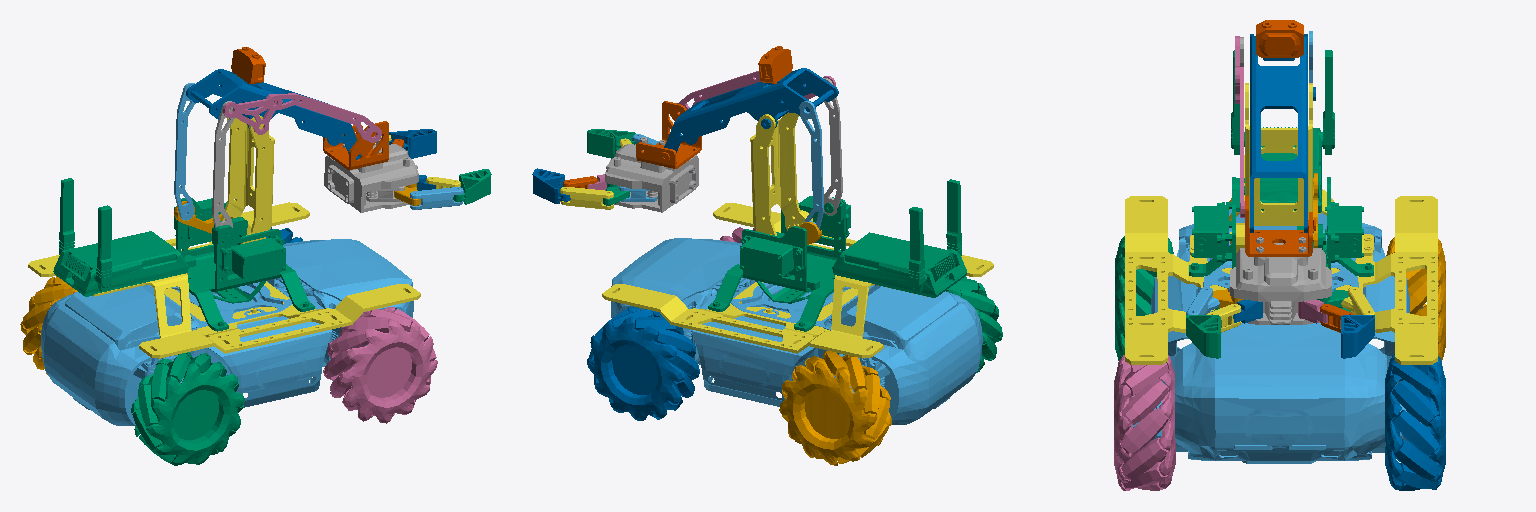
--- Render facts (derived) ---
3 views of the same robot in one strip: view 1: azimuth 30°, elevation 25°; view 2: azimuth 150°, elevation 25°; view 3: azimuth 270°, elevation 25° (orthographic).
Robot: RoboMaster — 36 links, 35 joints (3 revolute, 25 continuous, 1 prismatic, 6 fixed); root link base_link; default pose: every joint at zero.
Links seen in each view (by area): view 1: robot_base, front_right_wheel_link_respondable, rear_right_wheel_link_respondable, extension_base_link_respondable, arm_base_link_respondable, intelligent_controller_link_respondable, arm_1_link_respondable, arm_2_link_respondable, gripper_link_respondable, rear_left_wheel_link_respondable, endpoint_bracket_link_respondable, rod_3_link_respondable (+7 smaller); view 2: robot_base, rear_left_wheel_link_respondable, extension_base_link_respondable, front_left_wheel_link_respondable, arm_base_link_respondable, intelligent_controller_link_respondable, arm_2_link_respondable, arm_1_link_respondable, gripper_link_respondable, rear_right_wheel_link_respondable, endpoint_bracket_link_respondable, rod_3_link_respondable (+6 smaller); view 3: robot_base, extension_base_link_respondable, front_right_wheel_link_respondable, front_left_wheel_link_respondable, arm_base_link_respondable, gripper_link_respondable, arm_2_link_respondable, arm_1_link_respondable, intelligent_controller_link_respondable, rear_right_wheel_link_respondable, endpoint_bracket_link_respondable, rear_left_wheel_link_respondable (+8 smaller).
Boxes of the visible links, x1,y1,x2,y2 form: robot_base: (41, 239, 413, 425); front_right_wheel_link_respondable: (323, 307, 437, 423); rear_right_wheel_link_respondable: (131, 352, 244, 465); extension_base_link_respondable: (28, 202, 420, 358); arm_base_link_respondable: (174, 197, 314, 331); intelligent_controller_link_respondable: (53, 178, 188, 296); arm_1_link_respondable: (221, 115, 274, 243); arm_2_link_respondable: (186, 69, 360, 159); gripper_link_respondable: (324, 137, 418, 212); rear_left_wheel_link_respondable: (20, 276, 77, 374); endpoint_bracket_link_respondable: (323, 121, 388, 169); rod_3_link_respondable: (174, 83, 195, 220); robot_base: (611, 238, 982, 424); rear_left_wheel_link_respondable: (779, 351, 891, 465); extension_base_link_respondable: (602, 203, 993, 358); front_left_wheel_link_respondable: (587, 307, 699, 420); arm_base_link_respondable: (708, 196, 850, 331); intelligent_controller_link_respondable: (832, 179, 966, 297); arm_2_link_respondable: (664, 68, 838, 152); arm_1_link_respondable: (750, 112, 812, 235); gripper_link_respondable: (605, 137, 698, 212); rear_right_wheel_link_respondable: (946, 276, 1002, 372); endpoint_bracket_link_respondable: (636, 101, 701, 168); rod_3_link_respondable: (799, 101, 823, 229); robot_base: (1133, 209, 1422, 463); extension_base_link_respondable: (1125, 155, 1437, 364); front_right_wheel_link_respondable: (1114, 355, 1175, 490); front_left_wheel_link_respondable: (1385, 354, 1445, 490); arm_base_link_respondable: (1189, 177, 1373, 312); gripper_link_respondable: (1230, 237, 1331, 324); arm_2_link_respondable: (1250, 34, 1315, 232); arm_1_link_respondable: (1230, 83, 1312, 252); intelligent_controller_link_respondable: (1231, 50, 1334, 212); rear_right_wheel_link_respondable: (1115, 236, 1173, 360); endpoint_bracket_link_respondable: (1245, 196, 1315, 256); rear_left_wheel_link_respondable: (1386, 237, 1445, 360).
Size in the robot's own frame: 0.4104 by 0.2456 by 0.3445 metres.
Meshes: 65 distinct files referenced, 65 mesh visuals loaded (65 OBJ).

The robot description file, URDF, robot "RoboMaster":
<?xml version="1.0"?>
<robot name="RoboMaster">
    <mujoco>
        <compiler meshdir="/CoppeliaSim_Edu_V4_10_0_rev0_Ubuntu22_04/myRM/meshes_obj" balanceinertia="true" />
    </mujoco>
    <link name="base_link" />
    <joint name="base_link_to_robot_base" type="fixed">
        <parent link="base_link" />
        <child link="robot_base" />
        <origin xyz="0 0 0" rpy="0 0 0" />
    </joint>
    <link name="robot_base">
        <inertial>
            <origin rpy="-0.000000 -1.570796 0.000000" xyz="-0.005513 -0.000321 0.066029" />
            <inertia ixx="0.017589308201487" izz="0.01451068068707" iyz="-3.7897668285013e-06" iyy="0.0051199987327979" ixz="-4.6110514572507e-05" ixy="-7.7439198790158e-07" />
            <mass value="1.9340000152588" />
        </inertial>
        <collision name="RoboMaster">
            <origin xyz="0.000000 0.000000 0.067444" rpy="0.000000 -1.570796 0.000000" />
            <geometry>
                <mesh filename="mrRM_robot_base_coll_1.obj" />
            </geometry>
        </collision>
        <visual name="base_link_visual">
            <origin xyz="0.002326 -0.002002 0.053802" rpy="-0.007984 4.678589 -3.133558" />
            <geometry>
                <mesh filename="mrRM_base_link_visual_vis_1.obj" />
            </geometry>
        </visual>
        <visual name="base_link_visual">
            <origin xyz="0.002326 -0.002002 0.053802" rpy="-0.007984 4.678589 -3.133558" />
            <geometry>
                <mesh filename="mrRM_base_link_visual_vis_2.obj" />
            </geometry>
        </visual>
        <visual name="base_link_visual">
            <origin xyz="0.002326 -0.002002 0.053802" rpy="-0.007984 4.678589 -3.133558" />
            <geometry>
                <mesh filename="mrRM_base_link_visual_vis_3.obj" />
            </geometry>
        </visual>
        <visual name="base_link_visual">
            <origin xyz="0.002326 -0.002002 0.053802" rpy="-0.007984 4.678589 -3.133558" />
            <geometry>
                <mesh filename="mrRM_base_link_visual_vis_4.obj" />
            </geometry>
        </visual>
        <visual name="base_link_visual">
            <origin xyz="0.002326 -0.002002 0.053802" rpy="-0.007984 4.678589 -3.133558" />
            <geometry>
                <mesh filename="mrRM_base_link_visual_vis_5.obj" />
            </geometry>
        </visual>
        <visual name="base_link_visual">
            <origin xyz="0.002326 -0.002002 0.053802" rpy="-0.007984 4.678589 -3.133558" />
            <geometry>
                <mesh filename="mrRM_base_link_visual_vis_6.obj" />
            </geometry>
        </visual>
        <visual name="base_link_visual">
            <origin xyz="0.002326 -0.002002 0.053802" rpy="-0.007984 4.678589 -3.133558" />
            <geometry>
                <mesh filename="mrRM_base_link_visual_vis_7.obj" />
            </geometry>
        </visual>
        <visual name="base_link_visual">
            <origin xyz="0.002326 -0.002002 0.053802" rpy="-0.007984 4.678589 -3.133558" />
            <geometry>
                <mesh filename="mrRM_base_link_visual_vis_8.obj" />
            </geometry>
        </visual>
        <visual name="base_link_visual">
            <origin xyz="0.002326 -0.002002 0.053802" rpy="-0.007984 4.678589 -3.133558" />
            <geometry>
                <mesh filename="mrRM_base_link_visual_vis_9.obj" />
            </geometry>
        </visual>
        <visual name="base_link_visual">
            <origin xyz="0.002326 -0.002002 0.053802" rpy="-0.007984 4.678589 -3.133558" />
            <geometry>
                <mesh filename="mrRM_base_link_visual_vis_10.obj" />
            </geometry>
        </visual>
        <visual name="base_link_visual">
            <origin xyz="0.002326 -0.002002 0.053802" rpy="-0.007984 4.678589 -3.133558" />
            <geometry>
                <mesh filename="mrRM_base_link_visual_vis_11.obj" />
            </geometry>
        </visual>
        <visual name="base_link_visual">
            <origin xyz="0.002326 -0.002002 0.053802" rpy="-0.007984 4.678589 -3.133558" />
            <geometry>
                <mesh filename="mrRM_base_link_visual_vis_12.obj" />
            </geometry>
        </visual>
        <visual name="base_link_visual">
            <origin xyz="0.002326 -0.002002 0.053802" rpy="-0.007984 4.678589 -3.133558" />
            <geometry>
                <mesh filename="mrRM_base_link_visual_vis_13.obj" />
            </geometry>
        </visual>
        <visual name="front_hit_sensor_link_visual">
            <origin xyz="0.154883 -0.000509 0.077526" rpy="-1.570858 3.156556 0.000403" />
            <geometry>
                <mesh filename="mrRM_front_hit_sensor_link_visual_vis_1.obj" />
            </geometry>
        </visual>
        <visual name="front_led_link_visual">
            <origin xyz="0.166341 -0.001666 0.077340" rpy="-1.570776 3.151230 3.140798" />
            <geometry>
                <mesh filename="mrRM_front_led_link_visual_vis_1.obj" />
            </geometry>
        </visual>
        <visual name="left_hit_sensor_link_visual">
            <origin xyz="-0.002040 0.085820 0.066425" rpy="1.555835 3.141586 1.571201" />
            <geometry>
                <mesh filename="mrRM_left_hit_sensor_link_visual_vis_1.obj" />
            </geometry>
        </visual>
        <visual name="left_led_link_visual">
            <origin xyz="-0.003518 0.096630 0.066595" rpy="1.558170 3.174514 1.571616" />
            <geometry>
                <mesh filename="mrRM_left_led_link_visual_vis_1.obj" />
            </geometry>
        </visual>
        <visual name="rear_hit_sensor_link_visual">
            <origin xyz="-0.155119 -0.002990 0.069243" rpy="1.570860 3.126629 -3.141188" />
            <geometry>
                <mesh filename="mrRM_rear_hit_sensor_link_visual_vis_1.obj" />
            </geometry>
        </visual>
        <visual name="rear_led_link_visual">
            <origin xyz="-0.165956 -0.000894 0.069047" rpy="-1.570639 3.191801 -0.000609" />
            <geometry>
                <mesh filename="mrRM_rear_led_link_visual_vis_1.obj" />
            </geometry>
        </visual>
        <visual name="right_hit_sensor_link_visual">
            <origin xyz="-0.001971 -0.084315 0.066414" rpy="1.555835 3.141586 1.571201" />
            <geometry>
                <mesh filename="mrRM_right_hit_sensor_link_visual_vis_1.obj" />
            </geometry>
        </visual>
        <visual name="right_led_link_visual">
            <origin xyz="-0.001984 -0.097961 0.066579" rpy="-1.586849 3.142395 1.571214" />
            <geometry>
                <mesh filename="mrRM_right_led_link_visual_vis_1.obj" />
            </geometry>
        </visual>
        <visual name="GyroSensor">
            <origin xyz="0.000000 0.000000 0.067444" rpy="-3.141593 3.141593 -3.141593" />
            <geometry>
                <mesh filename="mrRM_GyroSensor_vis_1.obj" />
            </geometry>
        </visual>
        <visual name="Accelerometer">
            <origin xyz="0.000000 0.000000 0.067444" rpy="-3.141593 3.141593 -3.141593" />
            <geometry>
                <mesh filename="mrRM_Accelerometer_vis_1.obj" />
            </geometry>
        </visual>
        <visual name="reference">
            <origin xyz="0.000000 0.000000 0.067444" rpy="-3.141593 3.141593 -3.141593" />
            <geometry>
                <box size="0.010000 0.010000 0.010000" />
            </geometry>
        </visual>
        <visual name="BaseLinkFrame">
            <origin xyz="0.000000 0.000000 -0.000000" rpy="-3.141593 3.141593 -3.141593" />
            <geometry>
                <box size="0.010000 0.010000 0.010000" />
            </geometry>
        </visual>
    </link>
    <joint name="arm_base_attachment_joint" type="fixed">
        <axis xyz="0 0 1" />
        <parent link="robot_base" />
        <child link="arm_base_link_respondable" />
        <origin xyz="0.001280 0.000830 0.127151" rpy="-0.004234 1.585757 -0.003830" />
    </joint>
    <link name="arm_base_link_respondable">
        <inertial>
            <origin rpy="1.570799 3.141592 -0.010468" xyz="0.000000 0.000000 -0.000000" />
            <inertia ixx="0.00072019468651553" izz="0.0024997998783834" iyz="5.7190505382992e-10" iyy="0.0022999993508077" ixz="-1.8631618966786e-05" ixy="-2.9647946187585e-11" />
            <mass value="0.30000001192093" />
        </inertial>
        <collision name="arm_base_link_respondable">
            <origin xyz="-0.010620 -0.000534 -0.002359" rpy="1.570799 3.141592 -0.010468" />
            <geometry>
                <mesh filename="mrRM_arm_base_link_respondable_coll_1.obj" />
            </geometry>
        </collision>
        <visual name="arm_base_link_visual">
            <origin xyz="-0.031605 0.046821 -0.001128" rpy="0.000000 3.141592 0.000000" />
            <geometry>
                <mesh filename="mrRM_arm_base_link_visual_vis_1.obj" />
            </geometry>
        </visual>
        <visual name="arm_base_link_visual">
            <origin xyz="-0.031605 0.046821 -0.001128" rpy="0.000000 3.141592 0.000000" />
            <geometry>
                <mesh filename="mrRM_arm_base_link_visual_vis_2.obj" />
            </geometry>
        </visual>
        <visual name="arm_base_link_visual">
            <origin xyz="-0.031605 0.046821 -0.001128" rpy="0.000000 3.141592 0.000000" />
            <geometry>
                <mesh filename="mrRM_arm_base_link_visual_vis_3.obj" />
            </geometry>
        </visual>
        <visual name="arm_base_link_visual">
            <origin xyz="-0.031605 0.046821 -0.001128" rpy="0.000000 3.141592 0.000000" />
            <geometry>
                <mesh filename="mrRM_arm_base_link_visual_vis_4.obj" />
            </geometry>
        </visual>
    </link>
    <joint name="servo_motor_1" type="revolute">
        <axis xyz="0 0 1" />
        <limit velocity="5.1312680008637" lower="-0.27401667833328" effort="10.0" upper="1.3840461373329" />
        <parent link="arm_base_link_respondable" />
        <child link="arm_1_link_respondable" />
        <origin xyz="-0.030741 -0.025571 0.010396" rpy="-1.570797 -1.570796 0.000000" />
    </joint>
    <link name="arm_1_link_respondable">
        <inertial>
            <origin rpy="1.570958 3.142942 0.060996" xyz="-0.000559 -0.001173 0.023592" />
            <inertia ixx="0.015559326757555" izz="0.0018599644109959" iyz="0.0022918940812945" iyy="0.016156487726318" ixz="-0.00084468883193591" ixy="0.00016358625834718" />
            <mass value="0.056000001728535" />
        </inertial>
        <collision name="arm_1_link_respondable">
            <origin xyz="0.006169 -0.058604 0.023587" rpy="1.570958 3.142942 0.060996" />
            <geometry>
                <mesh filename="mrRM_arm_1_link_respondable_coll_1.obj" />
            </geometry>
        </collision>
        <visual name="arm_1_link_visual">
            <origin xyz="0.006193 -0.058505 0.023577" rpy="-1.571053 3.144842 0.056227" />
            <geometry>
                <mesh filename="mrRM_arm_1_link_visual_vis_1.obj" />
            </geometry>
        </visual>
        <visual name="arm_1_link_visual">
            <origin xyz="0.006193 -0.058505 0.023577" rpy="-1.571053 3.144842 0.056227" />
            <geometry>
                <mesh filename="mrRM_arm_1_link_visual_vis_2.obj" />
            </geometry>
        </visual>
    </link>
    <joint name="arm_2_link" type="continuous">
        <axis xyz="0 0 1" />
        <parent link="arm_1_link_respondable" />
        <child link="arm_2_link_respondable" />
        <origin xyz="0.001870 -0.121024 0.043866" rpy="-3.141593 3.141593 3.141593" />
    </joint>
    <link name="arm_2_link_respondable">
        <inertial>
            <origin rpy="1.571916 3.141590 2.055180" xyz="0.037006 0.006990 -0.020273" />
            <inertia ixx="0.011862393352485" izz="0.011470737200884" iyz="0.0" iyy="0.0028439997991025" ixz="0.0" ixy="0.0" />
            <mass value="0.079999998211861" />
        </inertial>
        <collision name="arm_2_link_respondable">
            <origin xyz="0.037006 0.006990 -0.020273" rpy="1.571916 3.141590 2.055180" />
            <geometry>
                <mesh filename="mrRM_arm_2_link_respondable_coll_1.obj" />
            </geometry>
        </collision>
        <visual name="arm_2_link_visual">
            <origin xyz="-0.042409 -0.022317 -0.018784" rpy="0.000087 3.141340 1.789281" />
            <geometry>
                <mesh filename="mrRM_arm_2_link_visual_vis_1.obj" />
            </geometry>
        </visual>
        <visual name="arm_2_link_visual">
            <origin xyz="-0.042409 -0.022317 -0.018784" rpy="0.000087 3.141340 1.789281" />
            <geometry>
                <mesh filename="mrRM_arm_2_link_visual_vis_2.obj" />
            </geometry>
        </visual>
        <visual name="arm_2_link_visual">
            <origin xyz="-0.042409 -0.022317 -0.018784" rpy="0.000087 3.141340 1.789281" />
            <geometry>
                <mesh filename="mrRM_arm_2_link_visual_vis_3.obj" />
            </geometry>
        </visual>
    </link>
    <joint name="endpoint_bracket_link" type="continuous">
        <axis xyz="0 0 1" />
        <parent link="arm_2_link_respondable" />
        <child link="endpoint_bracket_link_respondable" />
        <origin xyz="0.105856 0.056109 0.006752" rpy="3.141593 3.141593 -3.141593" />
    </joint>
    <link name="endpoint_bracket_link_respondable">
        <inertial>
            <origin rpy="3.141592 3.141493 -3.141144" xyz="0.010954 -0.003580 -0.026963" />
            <inertia ixx="0.00040727315982636" izz="0.00087104518419963" iyz="1.0337051069284e-13" iyy="0.00081677997398229" ixz="6.4361297454528e-21" ixy="1.2260267969261e-29" />
            <mass value="0.028000000864267" />
        </inertial>
        <collision name="endpoint_bracket_link_respondable">
            <origin xyz="0.010956 -0.008580 -0.026963" rpy="3.141592 3.141493 -3.141144" />
            <geometry>
                <mesh filename="mrRM_endpoint_bracket_link_respondable_coll_1.obj" />
            </geometry>
        </collision>
        <visual name="endpoint_bracket_link_visual">
            <origin xyz="0.011018 -0.008561 -0.025835" rpy="3.141592 3.141494 -3.141146" />
            <geometry>
                <mesh filename="mrRM_endpoint_bracket_link_visual_vis_1.obj" />
            </geometry>
        </visual>
    </link>
    <joint name="rod_1_link" type="continuous">
        <axis xyz="0 0 1" />
        <parent link="endpoint_bracket_link_respondable" />
        <child link="rod_1_link_respondable" />
        <origin xyz="0.013458 -0.021307 -0.054097" rpy="-3.141593 3.141593 3.120300" />
    </joint>
    <link name="rod_1_link_respondable">
        <inertial>
            <origin rpy="-1.118678 4.712385 -1.517352" xyz="-0.050842 -0.031213 0.000000" />
            <inertia ixx="0.0016030948301425" izz="0.0015681275861672" iyz="0.0" iyy="3.6269925849996e-05" ixz="0.0" ixy="0.0" />
            <mass value="0.012000000104308" />
        </inertial>
        <collision name="rod_1_link_respondable">
            <origin xyz="-0.050842 -0.031213 0.000000" rpy="-1.118678 4.712385 -1.517352" />
            <geometry>
                <mesh filename="mrRM_rod_1_link_respondable_coll_1.obj" />
            </geometry>
        </collision>
        <visual name="rod_1_link_visual">
            <origin xyz="-0.050750 -0.031179 -0.000002" rpy="0.488407 4.712387 -3.123125" />
            <geometry>
                <mesh filename="mrRM_rod_1_link_visual_vis_1.obj" />
            </geometry>
        </visual>
    </link>
    <joint name="Force_sensor" type="fixed">
        <axis xyz="0 0 1" />
        <parent link="endpoint_bracket_link_respondable" />
        <child link="gripper_link_respondable" />
        <origin xyz="0.011017 0.008439 -0.025846" rpy="-1.570745 3.141593 3.141592" />
    </joint>
    <link name="gripper_link_respondable">
        <inertial>
            <origin rpy="-1.570796 3.141542 -1.570796" xyz="0.016000 -0.000001 -0.028000" />
            <inertia ixx="2.0700001281872e-05" izz="3.7500003271271e-05" iyz="0.0" iyy="3.8699999359623e-05" ixz="0.0" ixy="0.0" />
            <mass value="0.15000000596046" />
        </inertial>
        <collision name="gripper_link_respondable">
            <origin xyz="0.021000 -0.000000 -0.003000" rpy="-1.570796 3.141542 -1.570796" />
            <geometry>
                <mesh filename="mrRM_gripper_link_respondable_coll_1.obj" />
            </geometry>
        </collision>
        <visual name="gripper_link_visual">
            <origin xyz="0.022420 0.000097 -0.020564" rpy="2.997433 4.712040 -2.997433" />
            <geometry>
                <mesh filename="mrRM_gripper_link_visual_vis_1.obj" />
            </geometry>
        </visual>
    </link>
    <joint name="Prismatic_joint" type="prismatic">
        <axis xyz="0 0 1" />
        <limit velocity="10.0" lower="-0.023000000044703" effort="1000.0" upper="0.0010000001639128" />
        <parent link="gripper_link_respondable" />
        <child link="Cuboid0" />
        <origin xyz="0.046128 -0.000017 -0.043220" rpy="1.570796 4.712339 -1.570796" />
    </joint>
    <link name="Cuboid0">
        <inertial>
            <origin rpy="-0.000000 1.570796 0.000000" xyz="0.050000 -0.000000 0.038006" />
            <inertia ixx="1.499999851454e-07" izz="1.499999851454e-07" iyz="0.0" iyy="4.9999993229479e-08" ixz="0.0" ixy="0.0" />
            <mass value="0.0029999995604157" />
        </inertial>
        <collision name="Cuboid0">
            <origin xyz="0.050000 -0.000000 0.038006" rpy="-0.000000 1.570796 0.000000" />
            <geometry>
                <box size="0.010000 0.030000 0.010000" />
            </geometry>
        </collision>
    </link>
    <joint name="left_gripper_1" type="continuous">
        <axis xyz="0 0 1" />
        <parent link="Cuboid0" />
        <child link="left_gripper_1_visual" />
        <origin xyz="0.011580 0.021316 0.040763" rpy="-0.000000 1.570796 0.000000" />
    </joint>
    <link name="left_gripper_1_visual">
        <inertial>
            <origin xyz="0 0 0" rpy="0 0 0" />
            <mass value="0.0001" />
            <inertia ixx="1e-06" iyy="1e-06" izz="1e-06" ixy="0" ixz="0" iyz="0" />
        </inertial>
        <visual name="left_gripper_1_visual">
            <origin xyz="0.010995 0.006202 -0.000007" rpy="-1.570868 3.159129 -1.032086" />
            <geometry>
                <mesh filename="mrRM_left_gripper_1_visual_vis_1.obj" />
            </geometry>
        </visual>
    </link>
    <joint name="left_gripper_2" type="continuous">
        <axis xyz="0 0 1" />
        <parent link="left_gripper_1_visual" />
        <child link="left_gripper_2_respondable" />
        <origin xyz="0.021349 0.013036 -0.000000" rpy="3.141593 3.141593 3.141593" />
    </joint>
    <link name="left_gripper_2_respondable">
        <collision name="left_gripper_2_respondable">
            <origin xyz="0.008922 0.009093 0.000093" rpy="-1.727626 -1.570796 0.000000" />
            <geometry>
                <mesh filename="mrRM_left_gripper_2_respondable_coll_1.obj" />
            </geometry>
        </collision>
        <visual name="left_gripper_2_visual">
            <origin xyz="0.003857 0.006381 0.000278" rpy="-1.187774 -1.570796 0.000000" />
            <geometry>
                <mesh filename="mrRM_left_gripper_2_visual_vis_1.obj" />
            </geometry>
        </visual>
    </link>
    <joint name="left_gripper_4" type="continuous">
        <axis xyz="0 0 1" />
        <parent link="left_gripper_2_respondable" />
        <child link="left_gripper_4_respondable" />
        <origin xyz="0.004850 0.020415 -0.000006" rpy="3.141593 3.141593 -3.141593" />
    </joint>
    <link name="left_gripper_4_respondable">
        <collision name="left_gripper_4_respondable">
            <origin xyz="0.020378 0.001798 0.000098" rpy="-2.889531 -1.570796 0.000000" />
            <geometry>
                <mesh filename="mrRM_left_gripper_4_respondable_coll_1.obj" />
            </geometry>
        </collision>
        <visual name="left_gripper_4_visual">
            <origin xyz="0.020094 0.002762 -0.000001" rpy="0.320190 -1.570796 0.000000" />
            <geometry>
                <mesh filename="mrRM_left_gripper_4_visual_vis_1.obj" />
            </geometry>
        </visual>
    </link>
    <joint name="left_gripper_5" type="continuous">
        <axis xyz="0 0 1" />
        <parent link="left_gripper_4_respondable" />
        <child link="left_gripper_5_respondable" />
        <origin xyz="0.038592 0.010314 0.000002" rpy="3.141593 3.141593 3.141593" />
    </joint>
    <link name="left_gripper_5_respondable">
        <collision name="left_gripper_5_respondable">
            <origin xyz="0.017990 -0.008090 -0.000939" rpy="-1.674553 4.617997 -1.462757" />
            <geometry>
                <mesh filename="mrRM_left_gripper_5_respondable_coll_1.obj" />
            </geometry>
        </collision>
        <visual name="left_gripper_5_visual">
            <origin xyz="0.017573 -0.011847 0.000239" rpy="-0.006831 4.688097 2.731857" />
            <geometry>
                <mesh filename="mrRM_left_gripper_5_visual_vis_1.obj" />
            </geometry>
        </visual>
    </link>
    <joint name="left_gripper_6" type="continuous">
        <axis xyz="0 0 1" />
        <parent link="left_gripper_5_respondable" />
        <child link="left_gripper_6_respondable" />
        <origin xyz="0.005114 -0.014085 0.000000" rpy="-3.141593 3.141593 3.141593" />
    </joint>
    <link name="left_gripper_6_respondable">
        <collision name="left_gripper_6_respondable">
            <origin xyz="-0.007535 -0.008443 -0.000055" rpy="1.570594 3.141595 -0.719247" />
            <geometry>
                <mesh filename="mrRM_left_gripper_6_respondable_coll_1.obj" />
            </geometry>
        </collision>
        <visual name="left_gripper_6_visual">
            <origin xyz="-0.007374 -0.008477 0.000002" rpy="-1.570789 3.154903 -0.722334" />
            <geometry>
                <mesh filename="mrRM_left_gripper_6_visual_vis_1.obj" />
            </geometry>
        </visual>
    </link>
    <joint name="left_gripper_7" type="continuous">
        <axis xyz="0 0 1" />
        <parent link="left_gripper_6_respondable" />
        <child link="left_gripper_7_respondable" />
        <origin xyz="-0.014882 -0.016851 0.000000" rpy="3.141593 3.141593 3.141593" />
    </joint>
    <link name="left_gripper_7_respondable">
        <collision name="left_gripper_7_respondable">
            <origin xyz="-0.008705 -0.009626 -0.000056" rpy="1.570815 3.141601 -0.725416" />
            <geometry>
                <mesh filename="mrRM_left_gripper_7_respondable_coll_1.obj" />
            </geometry>
        </collision>
        <visual name="left_gripper_7_visual">
            <origin xyz="-0.007057 -0.007665 -0.000012" rpy="-1.572790 3.148865 -0.724774" />
            <geometry>
                <mesh filename="mrRM_left_gripper_7_visual_vis_1.obj" />
            </geometry>
        </visual>
    </link>
    <joint name="right_gripper_1" type="continuous">
        <axis xyz="0 0 1" />
        <parent link="Cuboid0" />
        <child link="right_gripper_1_visual" />
        <origin xyz="0.011580 -0.020865 0.040763" rpy="-0.000000 1.570796 0.000000" />
    </joint>
    <link name="right_gripper_1_visual">
        <inertial>
            <origin xyz="0 0 0" rpy="0 0 0" />
            <mass value="0.0001" />
            <inertia ixx="1e-06" iyy="1e-06" izz="1e-06" ixy="0" ixz="0" iyz="0" />
        </inertial>
        <visual name="right_gripper_1_visual">
            <origin xyz="0.010940 -0.006261 0.000030" rpy="-1.567358 3.230098 -2.105213" />
            <geometry>
                <mesh filename="mrRM_right_gripper_1_visual_vis_1.obj" />
            </geometry>
        </visual>
    </link>
    <joint name="right_gripper_2" type="continuous">
        <axis xyz="0 0 1" />
        <parent link="right_gripper_1_visual" />
        <child link="right_gripper_2_respondable" />
        <origin xyz="0.021349 -0.013036 0.000000" rpy="3.141593 3.141593 -3.141593" />
    </joint>
    <link name="right_gripper_2_respondable">
        <collision name="right_gripper_2_respondable">
            <origin xyz="0.008719 -0.009971 0.000092" rpy="-1.413967 -1.570796 0.000000" />
            <geometry>
                <mesh filename="mrRM_right_gripper_2_respondable_coll_1.obj" />
            </geometry>
        </collision>
        <visual name="right_gripper_2_visual">
            <origin xyz="0.003722 -0.006814 0.000278" rpy="-1.953820 -1.570796 0.000000" />
            <geometry>
                <mesh filename="mrRM_right_gripper_2_visual_vis_1.obj" />
            </geometry>
        </visual>
    </link>
    <joint name="right_gripper_4" type="continuous">
        <axis xyz="0 0 1" />
        <parent link="right_gripper_2_respondable" />
        <child link="right_gripper_4_respondable" />
        <origin xyz="0.004715 -0.020848 -0.000006" rpy="-3.141593 3.141593 3.141593" />
    </joint>
    <link name="right_gripper_4_respondable">
        <collision name="right_gripper_4_respondable">
            <origin xyz="0.020388 -0.001817 0.000098" rpy="2.889531 -1.570796 0.000000" />
            <geometry>
                <mesh filename="mrRM_right_gripper_4_respondable_coll_1.obj" />
            </geometry>
        </collision>
        <visual name="right_gripper_4_visual">
            <origin xyz="0.020096 -0.002753 -0.000003" rpy="-1.648514 4.709774 -1.812652" />
            <geometry>
                <mesh filename="mrRM_right_gripper_4_visual_vis_1.obj" />
            </geometry>
        </visual>
    </link>
    <joint name="right_gripper_5" type="continuous">
        <axis xyz="0 0 1" />
        <parent link="right_gripper_4_respondable" />
        <child link="right_gripper_5_respondable" />
        <origin xyz="0.038592 -0.010314 0.000002" rpy="3.141593 3.141593 3.141593" />
    </joint>
    <link name="right_gripper_5_respondable">
        <collision name="right_gripper_5_respondable">
            <origin xyz="0.017968 0.008301 -0.001428" rpy="-1.539752 4.577196 1.535465" />
            <geometry>
                <mesh filename="mrRM_right_gripper_5_respondable_coll_1.obj" />
            </geometry>
        </collision>
        <visual name="right_gripper_5_visual">
            <origin xyz="0.017573 0.011847 0.000239" rpy="0.006348 4.688104 -2.731380" />
            <geometry>
                <mesh filename="mrRM_right_gripper_5_visual_vis_1.obj" />
            </geometry>
        </visual>
    </link>
    <joint name="right_gripper_6" type="continuous">
        <axis xyz="0 0 1" />
        <parent link="right_gripper_5_respondable" />
        <child link="right_gripper_6_respondable" />
        <origin xyz="0.005928 0.013307 -0.000000" rpy="-3.141593 3.141593 -3.141593" />
    </joint>
    <link name="right_gripper_6_respondable">
        <collision name="right_gripper_6_respondable">
            <origin xyz="-0.008213 0.009072 -0.000056" rpy="1.570997 3.141594 -2.422346" />
            <geometry>
                <mesh filename="mrRM_right_gripper_6_respondable_coll_1.obj" />
            </geometry>
        </collision>
        <visual name="right_gripper_7_visual">
            <origin xyz="-0.008240 0.009208 -0.000001" rpy="1.570866 3.160528 -2.418752" />
            <geometry>
                <mesh filename="mrRM_right_gripper_7_visual_vis_1.obj" />
            </geometry>
        </visual>
    </link>
    <joint name="right_gripper_7" type="continuous">
        <axis xyz="0 0 1" />
        <parent link="right_gripper_6_respondable" />
        <child link="right_gripper_7_respondable" />
        <origin xyz="-0.015696 0.017630 -0.000000" rpy="-3.141593 3.141593 3.141593" />
    </joint>
    <link name="right_gripper_7_respondable">
        <collision name="right_gripper_7_respondable">
            <origin xyz="-0.008798 0.009703 -0.000056" rpy="1.570778 3.141601 -2.416178" />
            <geometry>
                <mesh filename="mrRM_right_gripper_7_respondable_coll_1.obj" />
            </geometry>
        </collision>
        <visual name="right_gripper_6_visual">
            <origin xyz="-0.006985 0.007728 -0.000017" rpy="1.569059 3.156467 -2.423822" />
            <geometry>
                <mesh filename="mrRM_right_gripper_6_visual_vis_1.obj" />
            </geometry>
        </visual>
    </link>
    <joint name="camera_attach" type="fixed">
        <axis xyz="0 0 1" />
        <parent link="arm_2_link_respondable" />
        <child link="camera_link_visual" />
        <origin xyz="0.004019 -0.034011 -0.020260" rpy="-1.570796 3.141593 -3.001966" />
    </joint>
    <link name="camera_link_visual">
        <visual name="camera_link_visual">
            <origin xyz="-0.000648 0.000667 0.013564" rpy="1.570796 3.124139 0.000000" />
            <geometry>
                <mesh filename="mrRM_camera_link_visual_vis_1.obj" />
            </geometry>
        </visual>
    </link>
    <joint name="triangle_link" type="continuous">
        <axis xyz="0 0 1" />
        <parent link="arm_1_link_respondable" />
        <child link="triangle_link_respondable" />
        <origin xyz="0.002022 -0.121233 -0.007103" rpy="-3.141592 3.141593 -2.891312" />
    </joint>
    <link name="triangle_link_respondable">
        <inertial>
            <origin rpy="-1.954402 1.571449 1.570213" xyz="-0.014028 -0.018759 0.000005" />
            <inertia ixx="0.00018455399337178" izz="9.0000000400469e-06" iyz="-3.9305026608461e-13" iyy="1.8000000080094e-05" ixz="-3.1184653673886e-19" ixy="-1.3619040410819e-26" />
            <mass value="0.0089999996125698" />
        </inertial>
        <collision name="triangle_link_respondable">
            <origin xyz="-0.014028 -0.018759 0.000005" rpy="-1.954402 1.571449 1.570213" />
            <geometry>
                <mesh filename="mrRM_triangle_link_respondable_coll_1.obj" />
            </geometry>
        </collision>
        <visual name="triangle_link_visual">
            <origin xyz="-0.014063 -0.018900 0.000005" rpy="-1.953610 1.571449 1.570500" />
            <geometry>
                <mesh filename="mrRM_triangle_link_visual_vis_1.obj" />
            </geometry>
        </visual>
    </link>
    <joint name="rod_2_link" type="continuous">
        <axis xyz="0 0 1" />
        <parent link="arm_base_link_respondable" />
        <child link="rod_2_link_respondable" />
        <origin xyz="-0.055478 -0.029070 -0.022428" rpy="-1.570813 4.702964 0.000017" />
    </joint>
    <link name="rod_2_link_respondable">
        <inertial>
            <origin rpy="3.028820 1.570851 1.491040" xyz="0.001153 -0.054912 -0.000000" />
            <inertia ixx="0.0015792051600772" izz="3.8615595997555e-05" iyz="5.2056369047519e-05" iyy="0.0016129776245182" ixz="3.3794722810814e-05" ixy="-1.1163626210664e-06" />
            <mass value="0.012000000104308" />
        </inertial>
        <collision name="rod_2_link_respondable">
            <origin xyz="-0.000690 -0.059576 -0.000000" rpy="3.028820 1.570851 1.491040" />
            <geometry>
                <mesh filename="mrRM_rod_2_link_respondable_coll_1.obj" />
            </geometry>
        </collision>
        <visual name="rod_2_link_visual">
            <origin xyz="-0.000702 -0.059522 0.000000" rpy="3.104893 1.570853 1.566134" />
            <geometry>
                <mesh filename="mrRM_rod_2_link_visual_vis_1.obj" />
            </geometry>
        </visual>
    </link>
    <joint name="servo_motor_0" type="revolute">
        <axis xyz="0 0 1" />
        <limit velocity="5.1312680244446" lower="-0.79936075210571" effort="10.0" upper="5.4838247299194" />
        <parent link="arm_base_link_respondable" />
        <child link="rod_link_respondable" />
        <origin xyz="-0.031923 0.021424 0.009805" rpy="-1.570797 -1.570796 0.000000" />
    </joint>
    <link name="rod_link_respondable">
        <inertial>
            <origin rpy="-2.649286 -1.570796 0.000000" xyz="-0.000081 -0.000086 0.002379" />
            <inertia ixx="0.00020289999408998" izz="0.00086635430723312" iyz="8.1931339617662e-05" iyy="0.00075754317529392" ixz="-0.00016216980880584" ixy="0.0003023547012067" />
            <mass value="0.010999999940395" />
        </inertial>
        <collision name="rod_link_respondable">
            <origin xyz="-0.020399 -0.011337 0.002379" rpy="-2.649286 -1.570796 0.000000" />
            <geometry>
                <mesh filename="mrRM_rod_link_respondable_coll_1.obj" />
            </geometry>
        </collision>
        <visual name="rod_link_visual">
            <origin xyz="-0.020597 -0.011197 0.001658" rpy="-1.092504 4.712387 1.610207" />
            <geometry>
                <mesh filename="mrRM_rod_link_visual_vis_1.obj" />
            </geometry>
        </visual>
    </link>
    <joint name="rod_3_link" type="revolute">
        <axis xyz="0 0 1" />
        <limit velocity="3.1415927410126" lower="-0.34732049703598" effort="1000.0" upper="1.2147491574287" />
        <parent link="rod_link_respondable" />
        <child link="rod_3_link_respondable" />
        <origin xyz="-0.042397 -0.022313 0.000453" rpy="-3.141593 3.141593 3.141593" />
    </joint>
    <link name="rod_3_link_respondable">
        <inertial>
            <origin rpy="3.107216 1.570851 1.559078" xyz="-0.000357 -0.000168 0.000010" />
            <inertia ixx="0.0058869943594265" izz="3.7523029161263e-05" iyz="0.00013330729820632" iyy="0.0059170696757544" ixz="-1.9013833819694e-05" ixy="4.3079325159261e-07" />
            <mass value="0.012000000104308" />
        </inertial>
        <collision name="rod_3_link_respondable">
            <origin xyz="-0.001156 -0.060516 0.000009" rpy="3.107216 1.570851 1.559078" />
            <geometry>
                <mesh filename="mrRM_rod_3_link_respondable_coll_1.obj" />
            </geometry>
        </collision>
        <visual name="rod_3_link_visual">
            <origin xyz="-0.001198 -0.060431 -0.000001" rpy="3.115884 1.570852 1.564259" />
            <geometry>
                <mesh filename="mrRM_rod_3_link_visual_vis_1.obj" />
            </geometry>
        </visual>
    </link>
    <joint name="intelligent_controller_joint" type="fixed">
        <axis xyz="0 0 1" />
        <parent link="robot_base" />
        <child link="intelligent_controller_link_respondable" />
        <origin xyz="-0.132905 0.002221 0.171416" rpy="-0.004234 1.585757 -0.003830" />
    </joint>
    <link name="intelligent_controller_link_respondable">
        <inertial>
            <origin rpy="0.000000 -1.570796 0.000000" xyz="-0.000000 0.000000 0.000000" />
            <inertia ixx="0.0010000007156864" izz="0.0010000007156864" iyz="-1.8605488208292e-27" iyy="0.0010000007156864" ixz="-2.0247384601913e-27" ixy="1.1023513752748e-29" />
            <mass value="0.093000002205372" />
        </inertial>
        <collision name="intelligent_controller_link_respondable">
            <origin xyz="0.011384 -0.000020 0.023166" rpy="0.000000 -1.570796 0.000000" />
            <geometry>
                <box size="0.108973 0.059103 0.022915" />
            </geometry>
        </collision>
        <visual name="intelligent_controller_link_visual">
            <origin xyz="-0.023643 -0.034315 -0.014756" rpy="-1.568813 3.141593 1.570740" />
            <geometry>
                <mesh filename="mrRM_intelligent_controller_link_visual_vis_1.obj" />
            </geometry>
        </visual>
        <visual name="intelligent_controller_link_visual">
            <origin xyz="-0.023643 -0.034315 -0.014756" rpy="-1.568813 3.141593 1.570740" />
            <geometry>
                <mesh filename="mrRM_intelligent_controller_link_visual_vis_2.obj" />
            </geometry>
        </visual>
        <visual name="intelligent_controller_link_visual">
            <origin xyz="-0.023643 -0.034315 -0.014756" rpy="-1.568813 3.141593 1.570740" />
            <geometry>
                <mesh filename="mrRM_intelligent_controller_link_visual_vis_3.obj" />
            </geometry>
        </visual>
    </link>
    <joint name="extension_base_joint" type="fixed">
        <axis xyz="0 0 1" />
        <parent link="robot_base" />
        <child link="extension_base_link_respondable" />
        <origin xyz="-0.008214 0.000838 0.107186" rpy="-0.004234 1.585757 -0.003830" />
    </joint>
    <link name="extension_base_link_respondable">
        <inertial>
            <origin rpy="-0.000000 3.141593 0.000000" xyz="-0.004310 -0.000011 0.004419" />
            <inertia ixx="0.0022399987531521" izz="0.0013300013470108" iyz="-5.9663003559816e-14" iyy="0.00091999895372175" ixz="-2.0007677998689e-19" ixy="-1.9554282664526e-11" />
            <mass value="0.21999999880791" />
        </inertial>
        <collision name="extension_base_link_respondable_main">
            <origin xyz="-0.004310 -0.000011 0.004419" rpy="0.000000 -1.570796 0.000000" />
            <geometry>
                <box size="0.279694 0.231779 0.013000" />
            </geometry>
        </collision>
        <collision name="extension_base_link_respondable_plate">
            <origin xyz="-0.039066 0.000021 -0.100668" rpy="0.000000 -1.570796 0.000000" />
            <geometry>
                <box size="0.104444 0.045000 0.002000" />
            </geometry>
        </collision>
        <visual name="extension_base_link_visual">
            <origin xyz="-0.015825 0.000021 -0.100668" rpy="-1.570798 3.141565 0.000000" />
            <geometry>
                <mesh filename="mrRM_extension_base_link_visual_vis_1.obj" />
            </geometry>
        </visual>
        <visual name="extension_base_link_visual">
            <origin xyz="-0.015825 0.000021 -0.100668" rpy="-1.570798 3.141565 0.000000" />
            <geometry>
                <mesh filename="mrRM_extension_base_link_visual_vis_2.obj" />
            </geometry>
        </visual>
    </link>
    <joint name="front_left_wheel_joint" type="continuous">
        <axis xyz="0 0 1" />
        <parent link="robot_base" />
        <child link="front_left_wheel_link_respondable" />
        <origin xyz="0.100103 0.099836 0.050372" rpy="1.570859 3.126631 -3.141188" />
    </joint>
    <link name="front_left_wheel_link_respondable">
        <inertial>
            <origin rpy="-1.570796 3.141593 3.141592" xyz="-0.000210 0.000415 0.000053" />
            <inertia ixx="0.00019999955699974" izz="0.00012000005669357" iyz="-8.7074804302154e-23" iyy="0.00012000005669357" ixz="-5.9837115865974e-13" ixy="1.1641466120195e-14" />
            <mass value="0.16200000047684" />
        </inertial>
        <collision name="front_left_wheel_link_respondable">
            <origin xyz="0.000000 -0.000000 -0.000000" rpy="-1.570796 3.141593 3.141592" />
            <geometry>
                <sphere radius="0.025000000372529" />
            </geometry>
        </collision>
        <visual name="front_left_wheel_link_visual">
            <origin xyz="-0.000306 0.000697 0.000255" rpy="-1.901378 1.571450 1.571464" />
            <geometry>
                <mesh filename="mrRM_front_left_wheel_link_visual_vis_1.obj" />
            </geometry>
        </visual>
        <visual name="front_left_wheel_link_visual">
            <origin xyz="-0.000306 0.000697 0.000255" rpy="-1.901378 1.571450 1.571464" />
            <geometry>
                <mesh filename="mrRM_front_left_wheel_link_visual_vis_2.obj" />
            </geometry>
        </visual>
    </link>
    <joint name="front_left_wheel_inner_joint" type="continuous">
        <axis xyz="0 0 1" />
        <parent link="front_left_wheel_link_respondable" />
        <child link="front_left_wheel_inner_link_respondable" />
        <origin xyz="0.000000 -0.000000 -0.000000" rpy="-2.526113 3.665191 2.186276" />
    </joint>
    <link name="front_left_wheel_inner_link_respondable">
        <inertial>
            <origin rpy="-1.570796 2.356195 -2.356195" xyz="-0.000442 0.000144 0.000053" />
            <inertia ixx="1.0000000251457e-05" izz="1.0000000251457e-05" iyz="1.6871276897786e-29" iyy="1.0000000251457e-05" ixz="-7.9522146391448e-30" ixy="1.8305675243518e-31" />
            <mass value="0.0099999997764826" />
        </inertial>
        <collision name="front_left_wheel_inner_link_respondable">
            <origin xyz="-0.000442 0.000144 0.000053" rpy="-1.570796 2.356195 -2.356195" />
            <geometry>
                <sphere radius="0.050000000745058" />
            </geometry>
        </collision>
    </link>
    <joint name="front_right_wheel_joint" type="continuous">
        <axis xyz="0 0 1" />
        <parent link="robot_base" />
        <child link="front_right_wheel_link_respondable" />
        <origin xyz="0.100184 -0.100164 0.050359" rpy="1.570859 3.126631 -3.141188" />
    </joint>
    <link name="front_right_wheel_link_respondable">
        <inertial>
            <origin rpy="-1.570796 3.141593 3.141592" xyz="0.000224 0.000097 -0.000135" />
            <inertia ixx="0.00019999955699974" izz="0.00012000005669357" iyz="-8.7074804302154e-23" iyy="0.00012000005669357" ixz="-5.9837115865974e-13" ixy="1.1641466120195e-14" />
            <mass value="0.16200000047684" />
        </inertial>
        <collision name="front_right_wheel_link_respondable">
            <origin xyz="-0.000000 -0.000000 -0.000000" rpy="-1.570796 3.141593 3.141592" />
            <geometry>
                <sphere radius="0.025000000372529" />
            </geometry>
        </collision>
        <visual name="front_right_wheel_link_visual">
            <origin xyz="0.000012 0.000321 -0.000121" rpy="-2.393653 1.572339 2.543479" />
            <geometry>
                <mesh filename="mrRM_front_right_wheel_link_visual_vis_1.obj" />
            </geometry>
        </visual>
        <visual name="front_right_wheel_link_visual">
            <origin xyz="0.000012 0.000321 -0.000121" rpy="-2.393653 1.572339 2.543479" />
            <geometry>
                <mesh filename="mrRM_front_right_wheel_link_visual_vis_2.obj" />
            </geometry>
        </visual>
    </link>
    <joint name="front_right_wheel_inner_joint" type="continuous">
        <axis xyz="0 0 1" />
        <parent link="front_right_wheel_link_respondable" />
        <child link="front_right_wheel_inner_link_respondable" />
        <origin xyz="-0.000000 -0.000000 -0.000000" rpy="-0.615480 2.617994 2.186276" />
    </joint>
    <link name="front_right_wheel_inner_link_respondable">
        <inertial>
            <origin rpy="1.570796 2.356194 2.356194" xyz="0.000248 -0.000111 0.000063" />
            <inertia ixx="1.0000000251457e-05" izz="1.0000000251457e-05" iyz="1.6871276897786e-29" iyy="1.0000000251457e-05" ixz="-7.9522146391448e-30" ixy="1.8305675243518e-31" />
            <mass value="0.0099999997764826" />
        </inertial>
        <collision name="front_right_wheel_inner_link_respondable">
            <origin xyz="0.000248 -0.000111 0.000063" rpy="1.570796 2.356194 2.356194" />
            <geometry>
                <sphere radius="0.050000000745058" />
            </geometry>
        </collision>
    </link>
    <joint name="rear_left_wheel_joint" type="continuous">
        <axis xyz="0 0 1" />
        <parent link="robot_base" />
        <child link="rear_left_wheel_link_respondable" />
        <origin xyz="-0.099875 0.099755 0.053364" rpy="1.570859 3.126631 -3.141188" />
    </joint>
    <link name="rear_left_wheel_link_respondable">
        <inertial>
            <origin rpy="-1.570796 3.141593 3.141592" xyz="-0.000257 -0.000323 -0.000094" />
            <inertia ixx="0.00019999955699974" izz="0.00012000005669357" iyz="-8.7074804302154e-23" iyy="0.00012000005669357" ixz="-5.9837115865974e-13" ixy="1.1641466120195e-14" />
            <mass value="0.16200000047684" />
        </inertial>
        <collision name="rear_left_wheel_link_respondable">
            <origin xyz="-0.000000 -0.000000 0.000000" rpy="-1.570796 3.141593 3.141592" />
            <geometry>
                <sphere radius="0.025000000372529" />
            </geometry>
        </collision>
        <visual name="rear_left_wheel_link_visual">
            <origin xyz="-0.000082 0.000117 -0.000095" rpy="-3.101595 1.571451 1.570580" />
            <geometry>
                <mesh filename="mrRM_rear_left_wheel_link_visual_vis_1.obj" />
            </geometry>
        </visual>
        <visual name="rear_left_wheel_link_visual">
            <origin xyz="-0.000082 0.000117 -0.000095" rpy="-3.101595 1.571451 1.570580" />
            <geometry>
                <mesh filename="mrRM_rear_left_wheel_link_visual_vis_2.obj" />
            </geometry>
        </visual>
    </link>
    <joint name="rear_left_wheel_inner_joint" type="continuous">
        <axis xyz="0 0 1" />
        <parent link="rear_left_wheel_link_respondable" />
        <child link="rear_left_wheel_inner_link_respondable" />
        <origin xyz="-0.000000 -0.000000 0.000000" rpy="-2.526112 2.617994 -2.186276" />
    </joint>
    <link name="rear_left_wheel_inner_link_respondable">
        <inertial>
            <origin rpy="-1.570796 3.926991 2.356194" xyz="-0.000310 -0.000147 -0.000248" />
            <inertia ixx="1.0000000251457e-05" izz="1.0000000251457e-05" iyz="1.6871276897786e-29" iyy="1.0000000251457e-05" ixz="-7.9522146391448e-30" ixy="1.8305675243518e-31" />
            <mass value="0.0099999997764826" />
        </inertial>
        <collision name="rear_left_wheel_inner_link_respondable">
            <origin xyz="-0.000310 -0.000147 -0.000248" rpy="-1.570796 3.926991 2.356194" />
            <geometry>
                <sphere radius="0.050000000745058" />
            </geometry>
        </collision>
    </link>
    <joint name="rear_right_wheel_joint" type="continuous">
        <axis xyz="0 0 1" />
        <parent link="robot_base" />
        <child link="rear_right_wheel_link_respondable" />
        <origin xyz="-0.099794 -0.100245 0.053351" rpy="1.570859 3.126631 -3.141188" />
    </joint>
    <link name="rear_right_wheel_link_respondable">
        <inertial>
            <origin rpy="-1.570796 3.141593 3.141592" xyz="-0.000131 -0.000202 0.000195" />
            <inertia ixx="0.00019999955699974" izz="0.00012000005669357" iyz="-8.7074804302154e-23" iyy="0.00012000005669357" ixz="-5.9837115865974e-13" ixy="1.1641466120195e-14" />
            <mass value="0.16200000047684" />
        </inertial>
        <collision name="rear_right_wheel_link_respondable">
            <origin xyz="0.000000 0.000000 -0.000000" rpy="-1.570796 3.141593 3.141592" />
            <geometry>
                <sphere radius="0.025000000372529" />
            </geometry>
        </collision>
        <visual name="rear_right_wheel_link_visual">
            <origin xyz="-0.000041 0.000066 0.000195" rpy="-1.828957 1.571452 1.574518" />
            <geometry>
                <mesh filename="mrRM_rear_right_wheel_link_visual_vis_1.obj" />
            </geometry>
        </visual>
        <visual name="rear_right_wheel_link_visual">
            <origin xyz="-0.000041 0.000066 0.000195" rpy="-1.828957 1.571452 1.574518" />
            <geometry>
                <mesh filename="mrRM_rear_right_wheel_link_visual_vis_2.obj" />
            </geometry>
        </visual>
    </link>
    <joint name="rear_right_wheel_inner_joint" type="continuous">
        <axis xyz="0 0 1" />
        <parent link="rear_right_wheel_link_respondable" />
        <child link="rear_right_wheel_inner_link_respondable" />
        <origin xyz="0.000000 0.000000 -0.000000" rpy="-0.615479 3.665192 -2.186276" />
    </joint>
    <link name="rear_right_wheel_inner_link_respondable">
        <inertial>
            <origin rpy="1.570796 3.926991 -2.356194" xyz="0.000050 -0.000236 0.000195" />
            <inertia ixx="1.0000000251457e-05" izz="1.0000000251457e-05" iyz="1.6871276897786e-29" iyy="1.0000000251457e-05" ixz="-7.9522146391448e-30" ixy="1.8305675243518e-31" />
            <mass value="0.0099999997764826" />
        </inertial>
        <collision name="rear_right_wheel_inner_link_respondable">
            <origin xyz="0.000050 -0.000236 0.000195" rpy="1.570796 3.926991 -2.356194" />
            <geometry>
                <sphere radius="0.050000000745058" />
            </geometry>
        </collision>
    </link>
</robot>
